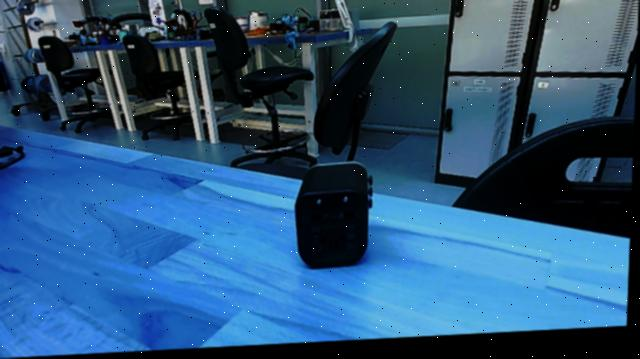adapter: (291, 160, 382, 278)
